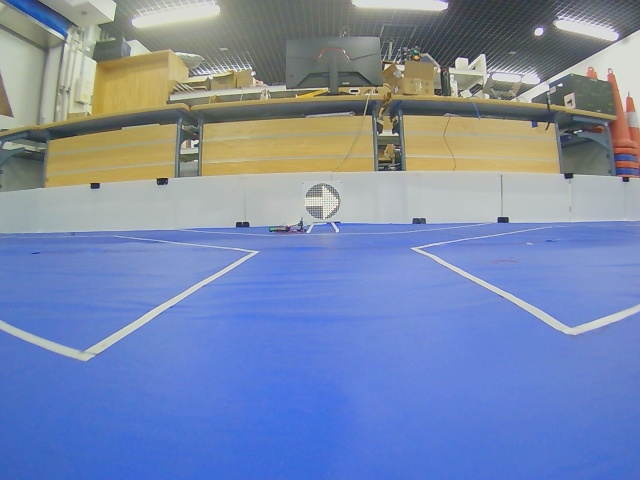right_yellow: (305, 183, 341, 220)
